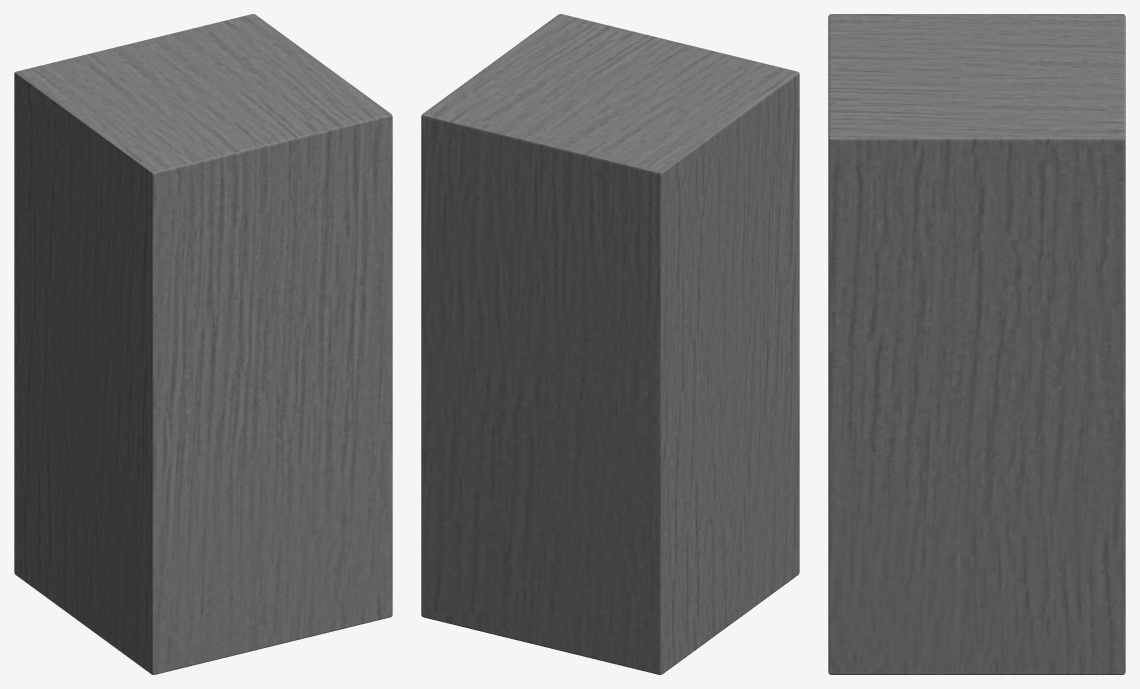
Rendered from Rectangle Square Base UVed OBJ.obj.
The picture shows the model from 3 angles, left to right: view 1: azimuth 30°, elevation 25°; view 2: azimuth 150°, elevation 25°; view 3: azimuth 270°, elevation 25°; orthographic projection. The views are drawn at different scales.
Parts seen in each view (by area): view 1: pCube12; view 2: pCube12; view 3: pCube12.
Part boxes in pixels (x1=…): pCube12: x1=14, y1=14, x2=392, y2=674; pCube12: x1=421, y1=14, x2=799, y2=674; pCube12: x1=828, y1=14, x2=1125, y2=674.
Size of the model in its own units: 95.25 by 190 by 95.25.
1 material, 1 textured.
